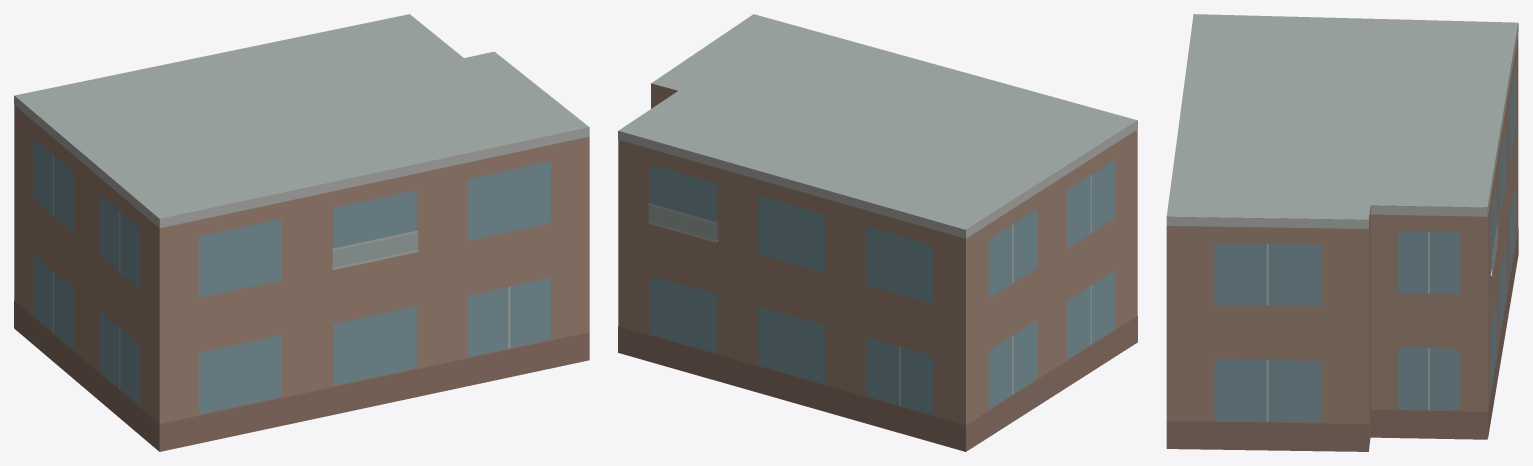
Rendered from survey-upis-32832817.glb.
3 renders of one model, left to right at view 1: azimuth 30°, elevation 25°; view 2: azimuth 150°, elevation 25°; view 3: azimuth 270°, elevation 25°, orthographic. The views are drawn at different scales.
Visible parts, largest first — view 1: survey-upis-32832817.tmp; view 2: survey-upis-32832817.tmp; view 3: survey-upis-32832817.tmp.
Boxes of the visible parts, x1,y1,x2,y2 form: survey-upis-32832817.tmp: (14,14,589,451); survey-upis-32832817.tmp: (618,14,1137,451); survey-upis-32832817.tmp: (1166,14,1518,451).
Bounding box in the file's own units: 11.6 × 6.1 × 8.39.
